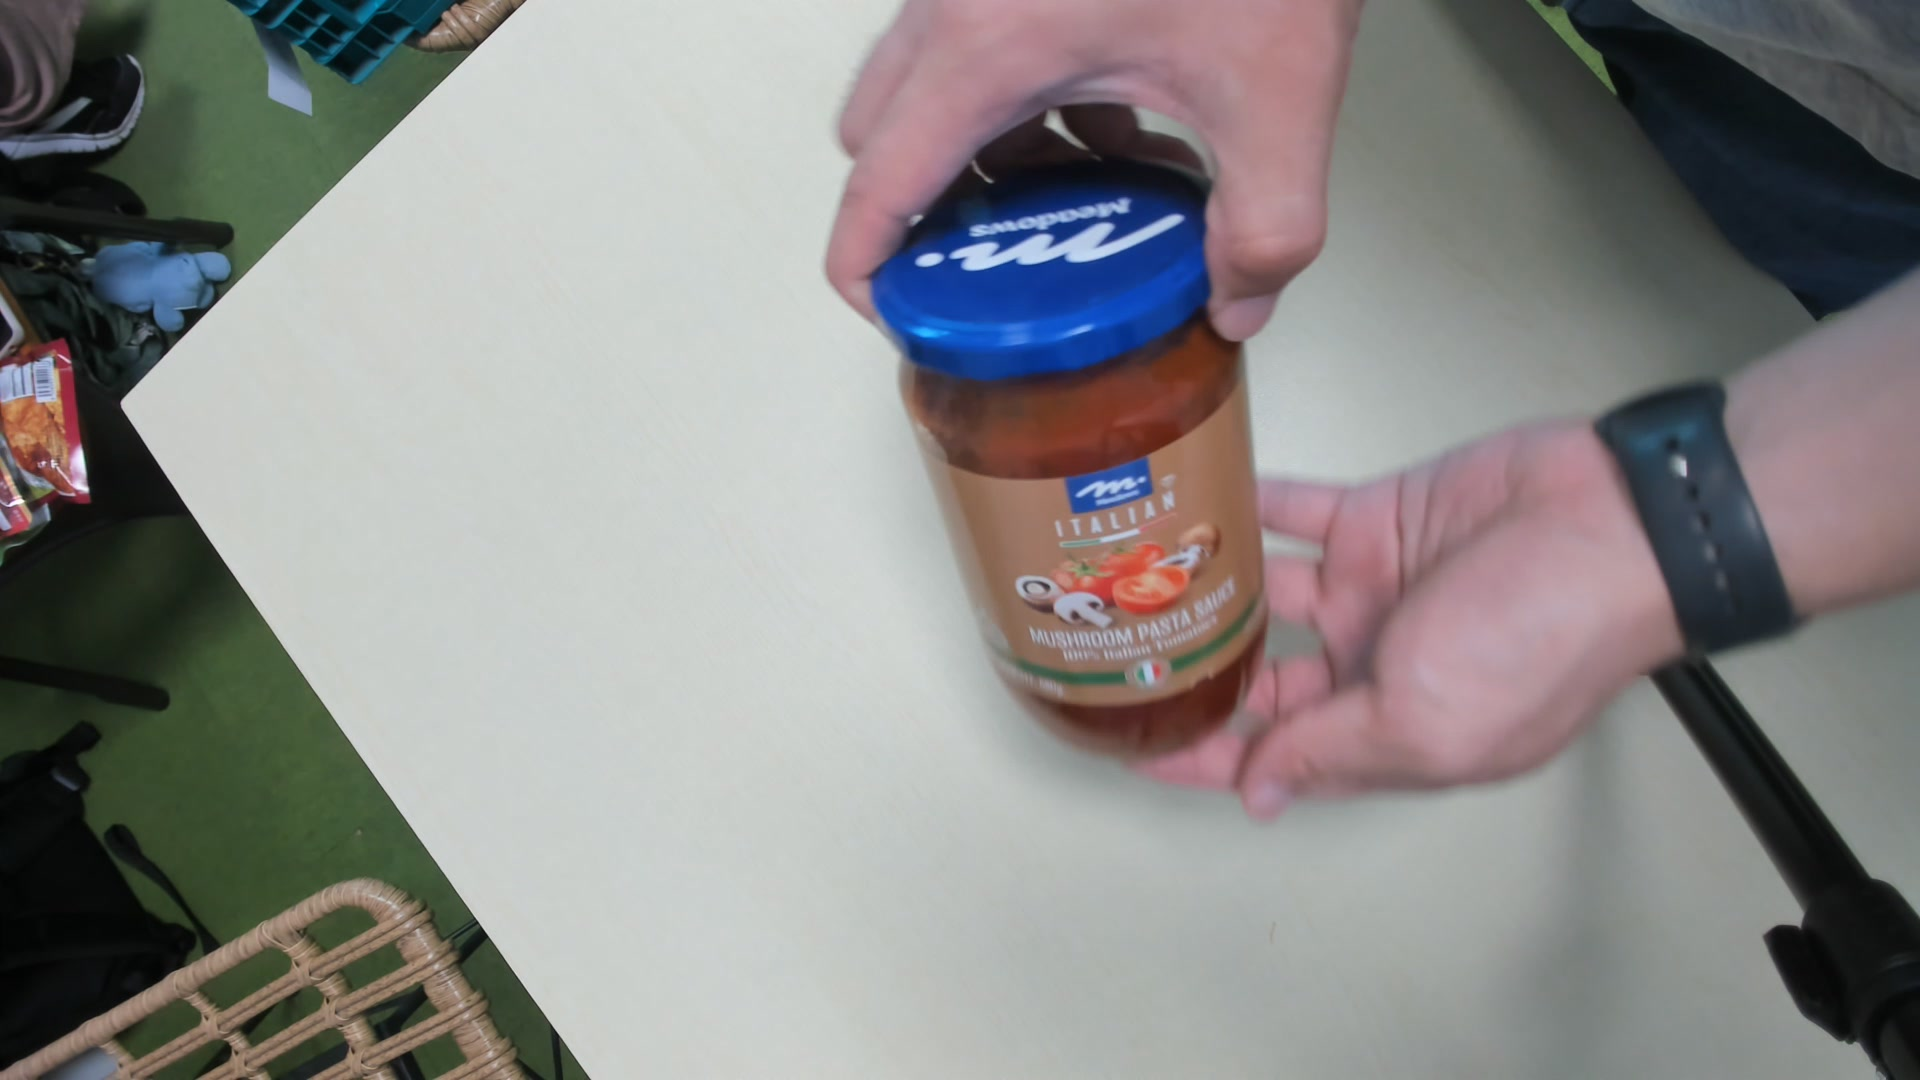PastaSauce_600-699g_Halal_NonHealthy: (880, 185, 1263, 749)
